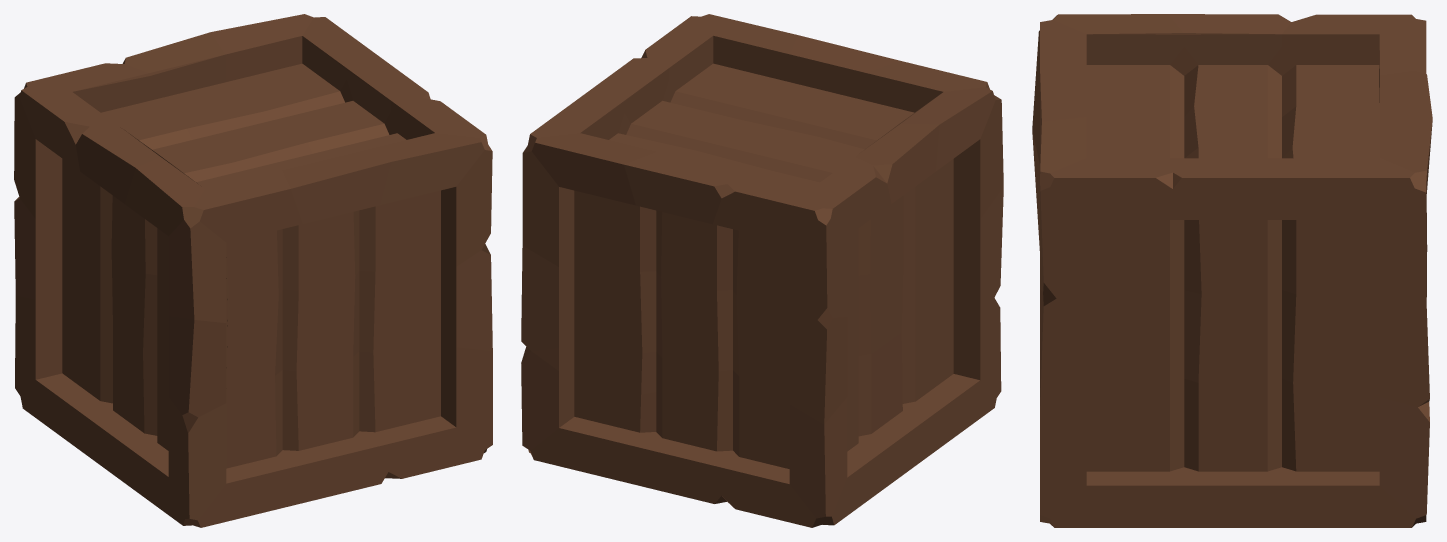
Rendered from Crate.fbx.
3 views of the same model, side by side, from view 1: azimuth 30°, elevation 25°; view 2: azimuth 150°, elevation 25°; view 3: azimuth 270°, elevation 25° (orthographic). The views are drawn at different scales.
Parts seen in each view (by area): view 1: Cube; view 2: Cube; view 3: Cube.
Part boxes in pixels (x1,y1,x2,y2): Cube: (14,14,492,527); Cube: (521,14,1003,527); Cube: (1032,14,1432,527).
Bounding box in the file's own units: 120 × 121 × 124.
